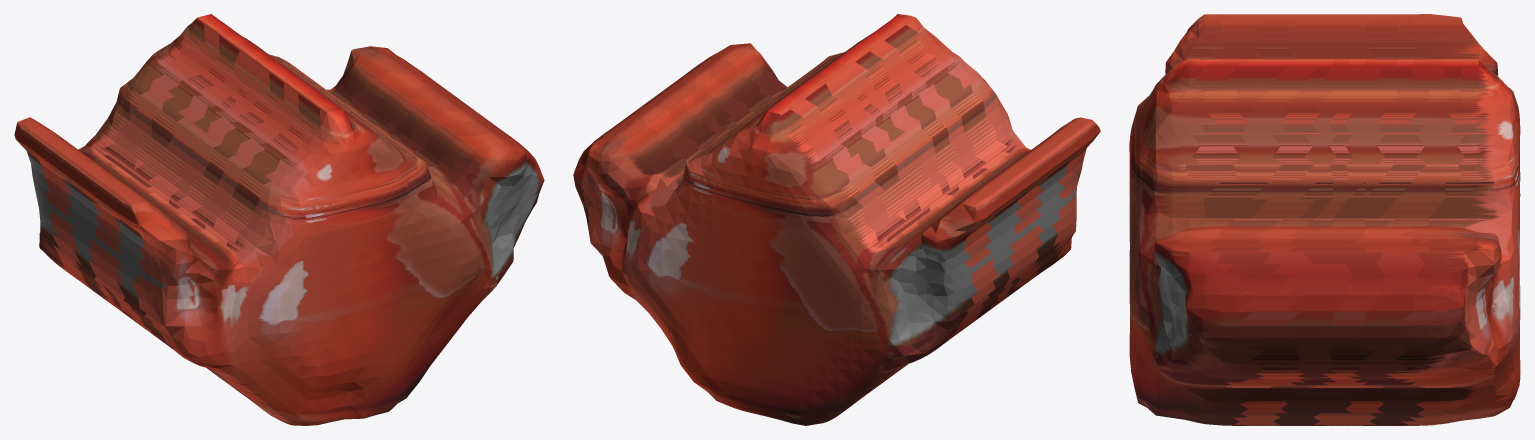
The model's file is teapot.glb.
The picture shows the model from 3 angles, left to right: view 1: azimuth 30°, elevation 25°; view 2: azimuth 150°, elevation 25°; view 3: azimuth 270°, elevation 25°; orthographic projection. The views are drawn at different scales.
Visible parts, largest first — view 1: model; view 2: model; view 3: model.
Part boxes in pixels (left/top/right/bottom): model: left=14, top=14, right=544, bottom=425; model: left=573, top=14, right=1100, bottom=425; model: left=1129, top=14, right=1520, bottom=425.
Size of the model in its own units: 1 by 0.6915 by 0.7384.
1 material, 1 textured.
